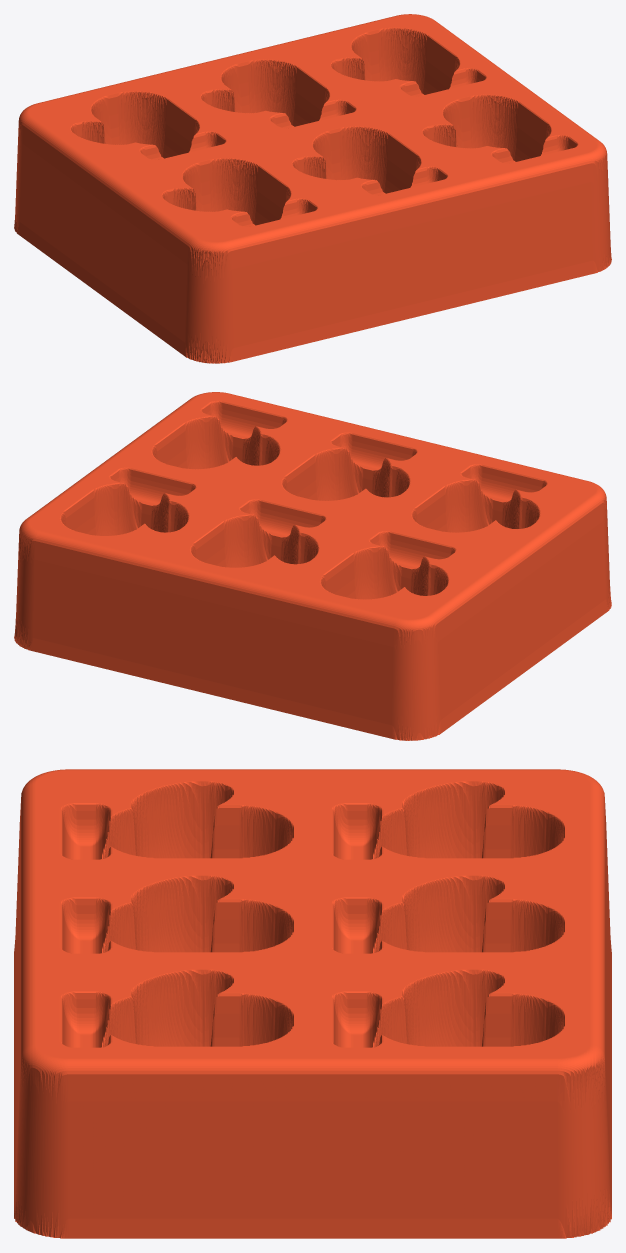
File: mold.glb
The picture shows the model from 3 angles, top to bottom: view 1: azimuth 30°, elevation 25°; view 2: azimuth 150°, elevation 25°; view 3: azimuth 270°, elevation 25°; orthographic projection. The views are drawn at different scales.
Visible parts, largest first — view 1: geometry_0; view 2: geometry_0; view 3: geometry_0.
Part boxes in pixels (x1=…): geometry_0: x1=14, y1=14, x2=611, y2=363; geometry_0: x1=14, y1=392, x2=611, y2=740; geometry_0: x1=14, y1=769, x2=611, y2=1238.
Size of the model in its own units: 0.1206 by 0.0314 by 0.0996.
